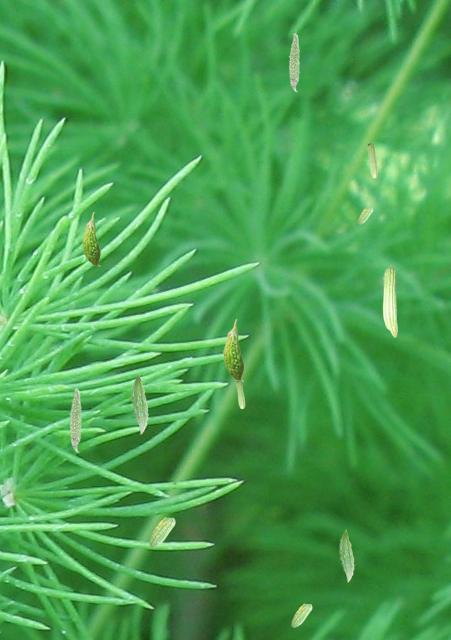ampalaya: (222, 318, 244, 382), (382, 263, 398, 337), (81, 211, 101, 266), (131, 373, 148, 434), (69, 387, 82, 452), (339, 529, 354, 582), (149, 517, 175, 547), (288, 32, 300, 92), (291, 603, 312, 628), (366, 142, 379, 178), (357, 206, 373, 225), (235, 381, 245, 409)
